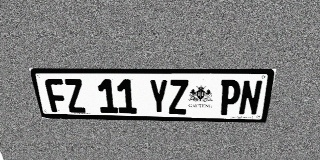1: (115, 79, 137, 114), (96, 79, 118, 113)
F: (44, 79, 69, 112)
N: (238, 80, 263, 116)
P: (218, 80, 242, 115)
Y: (148, 79, 168, 114)
Z: (63, 79, 87, 113), (169, 79, 188, 114)
